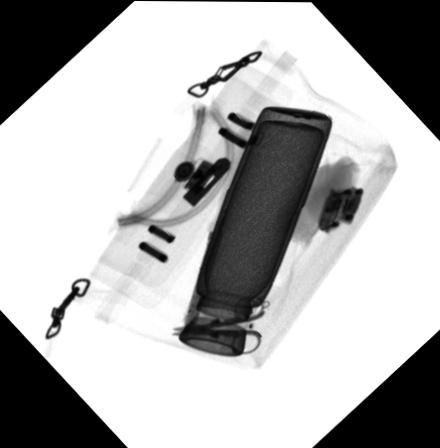Scissors: (170, 292, 262, 354)
